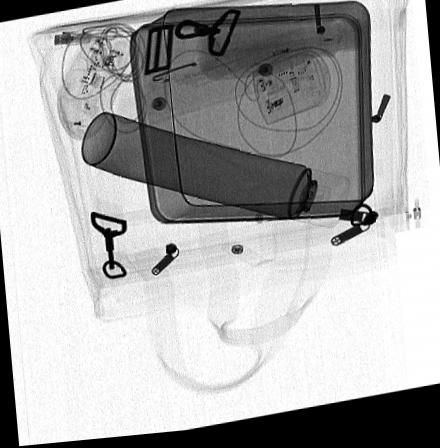Sprayer: (80, 115, 349, 235)
